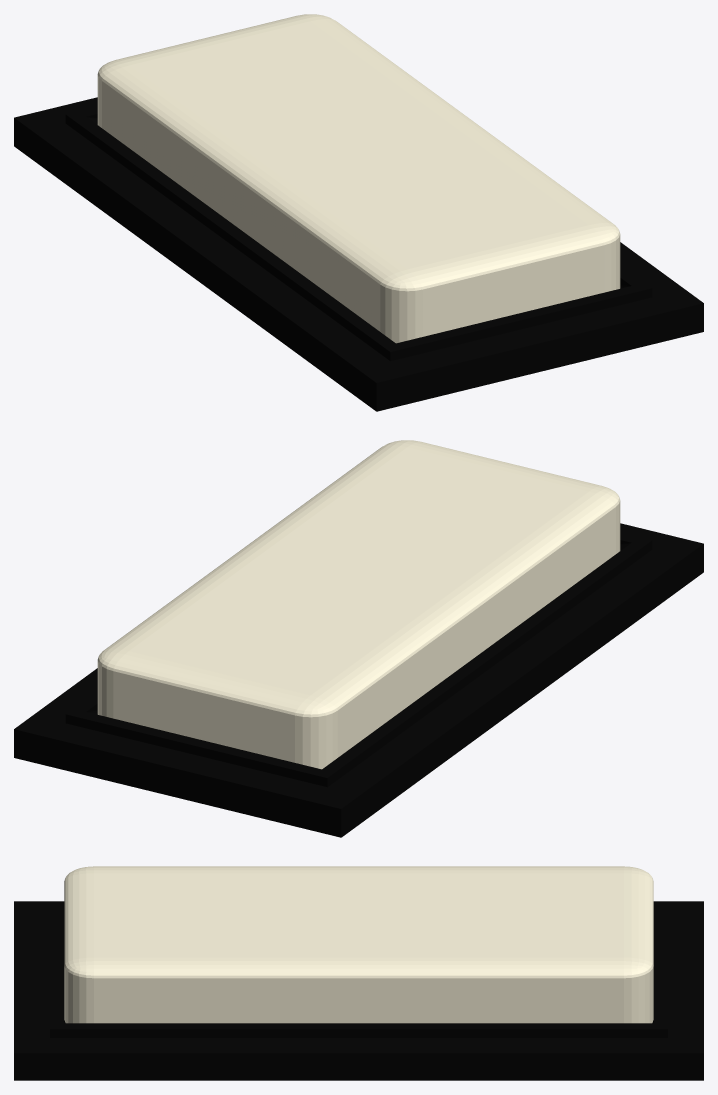
File: StartButton.fbx
The picture shows the model from 3 angles, top to bottom: view 1: azimuth 30°, elevation 25°; view 2: azimuth 150°, elevation 25°; view 3: azimuth 270°, elevation 25°; orthographic projection. The views are drawn at different scales.
Parts seen in each view (by area): view 1: Cube.005, Cube.004; view 2: Cube.005, Cube.004; view 3: Cube.005, Cube.004.
Boxes of the visible parts, bbox=[...] form: Cube.005: bbox=[86, 14, 631, 343]; Cube.004: bbox=[14, 97, 703, 411]; Cube.005: bbox=[86, 440, 631, 769]; Cube.004: bbox=[14, 523, 703, 837]; Cube.005: bbox=[64, 866, 653, 1023]; Cube.004: bbox=[14, 901, 703, 1080].
Size of the model in its own units: 42.65 by 11.67 by 81.83.
